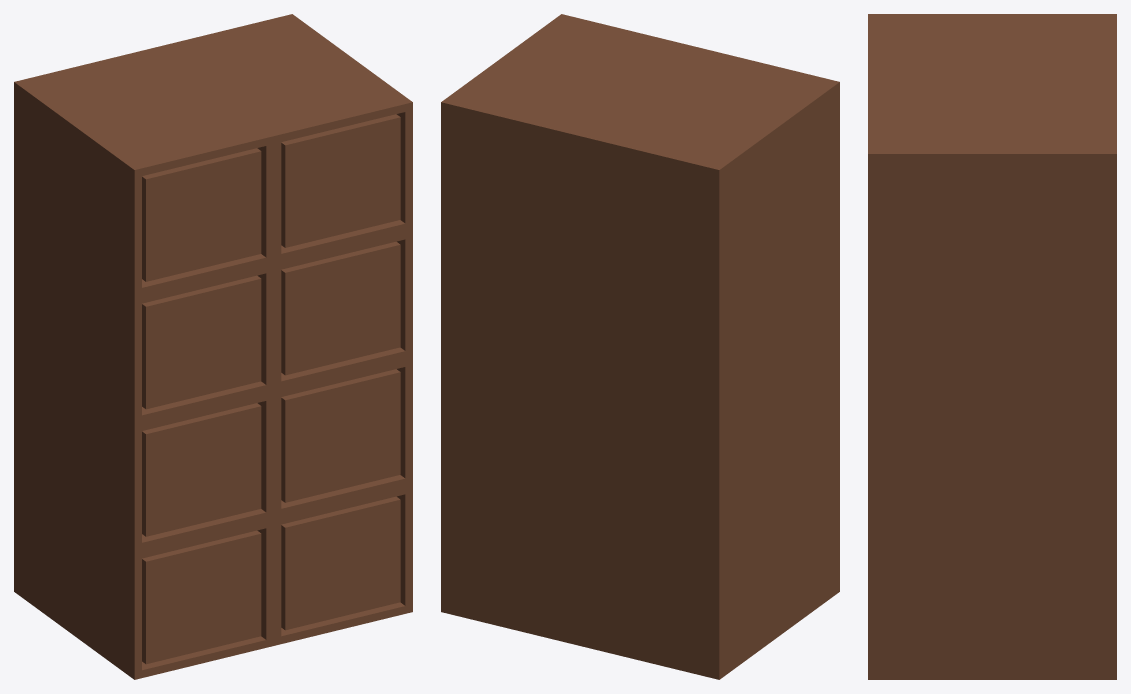
File: Cabinet_Blocks.fbx
The picture shows the model from 3 angles, left to right: view 1: azimuth 30°, elevation 25°; view 2: azimuth 150°, elevation 25°; view 3: azimuth 270°, elevation 25°; orthographic projection. The views are drawn at different scales.
Parts seen in each view (by area): view 1: Cabinet Blocks; view 2: Cabinet Blocks; view 3: Cabinet Blocks.
Boxes of the visible parts, x1,y1,x2,y2 form: Cabinet Blocks: (14, 14, 412, 679); Cabinet Blocks: (441, 14, 839, 679); Cabinet Blocks: (868, 14, 1116, 679).
Bounding box in the file's own units: 100 × 175 × 75.
